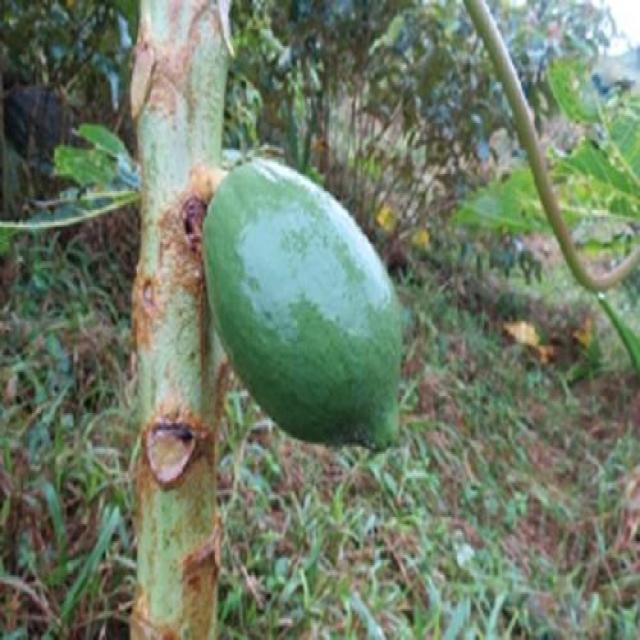Pepaya unrippen: (200, 160, 412, 462)
